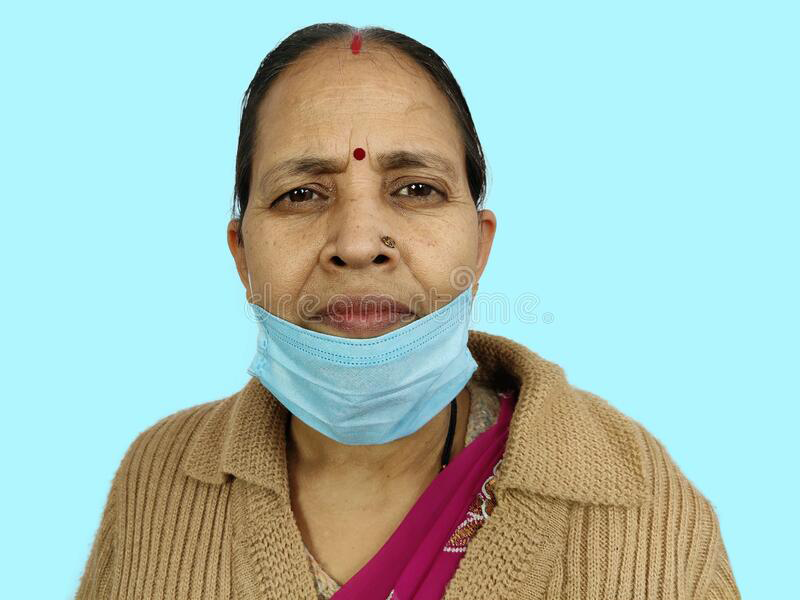mask_weared_incorrect: (248, 132, 476, 444)
